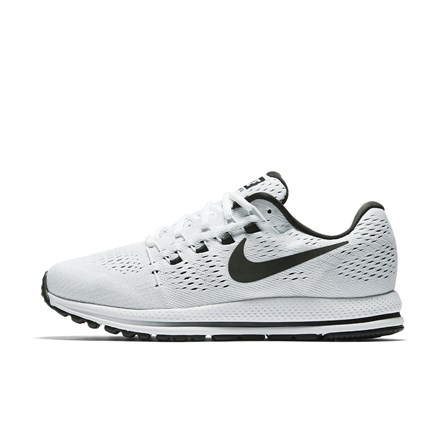nike: (227, 235, 352, 286)
